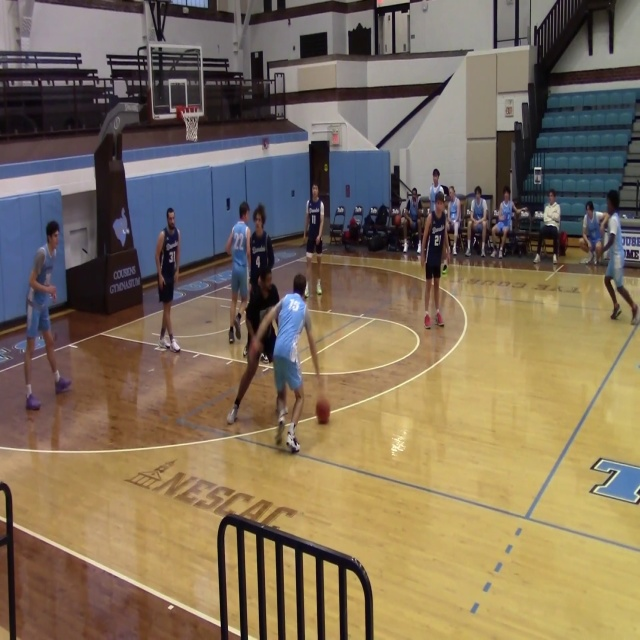Basketball: (315, 398, 330, 424), (579, 238, 590, 253), (441, 264, 447, 274)
